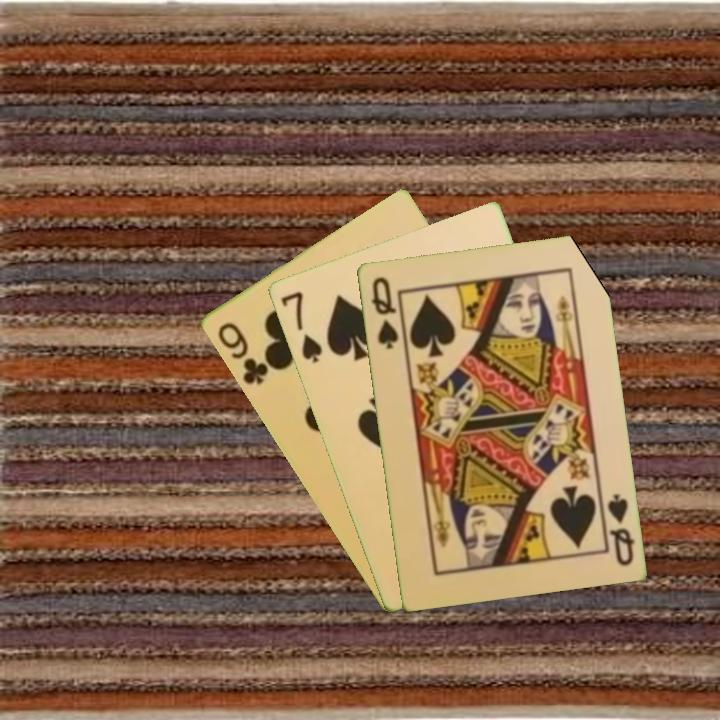7s: (276, 288, 325, 366)
9c: (213, 318, 271, 388)
Qs: (597, 490, 637, 569), (367, 273, 401, 352)
